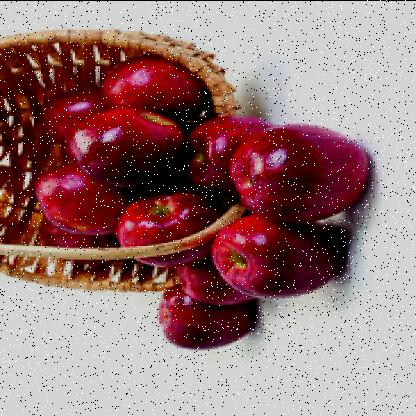apple: (236, 116, 372, 216), (211, 222, 330, 296), (125, 186, 227, 272), (68, 107, 175, 177), (182, 116, 273, 191), (159, 280, 250, 348), (36, 179, 127, 239), (43, 82, 125, 146), (98, 60, 204, 108), (180, 250, 242, 308)
